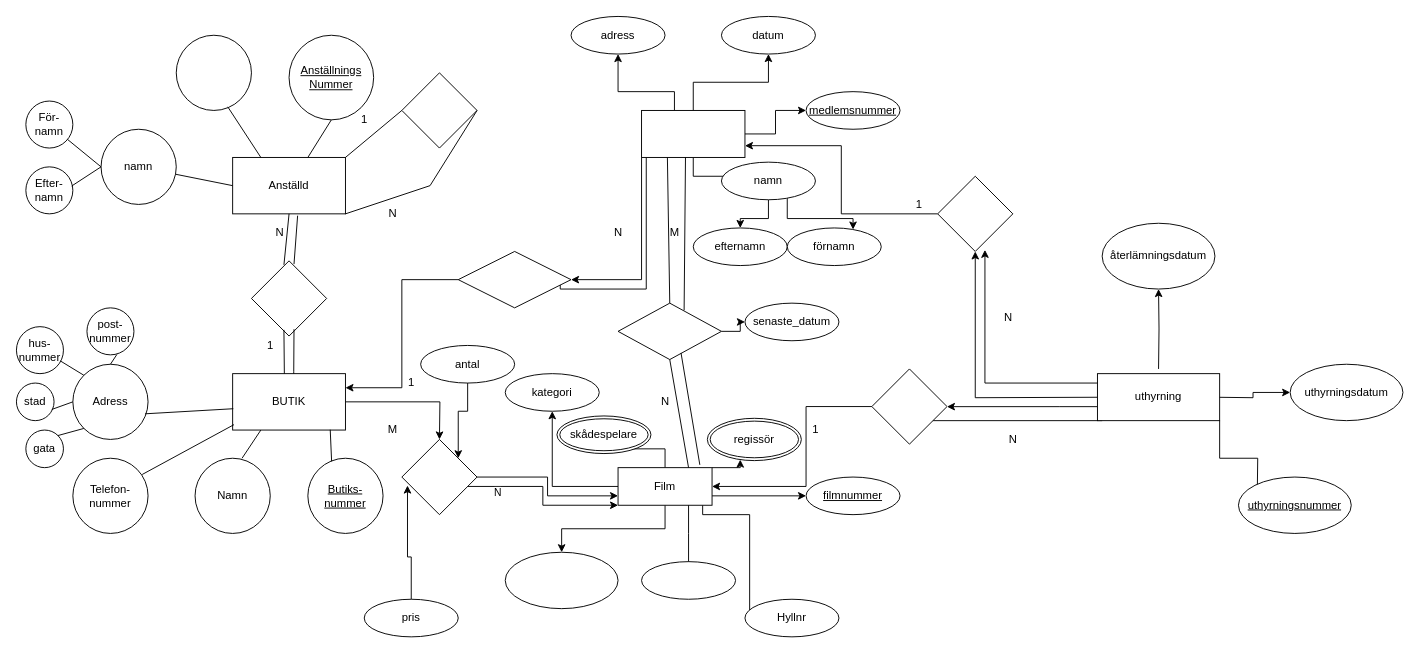
Image size: 1419x661. Some labels were removed from this diagram. The shapes that lost their labels are listed below. From the top down, each one's centre as x and y in pixels, then its label:
At point (213, 72): "lön".
At point (439, 110): "chef_till".
At point (693, 133): "Medlem".
At point (975, 213): "hyrs_ut_till".
At point (289, 298): "jobbar_i".
At point (514, 279): "medlem_hos".
At point (669, 331): "kan_reservera".
At point (909, 406): "kan".
At point (439, 477): "Har".
At point (561, 580): "filmlängd".
At point (688, 580): "titel".
